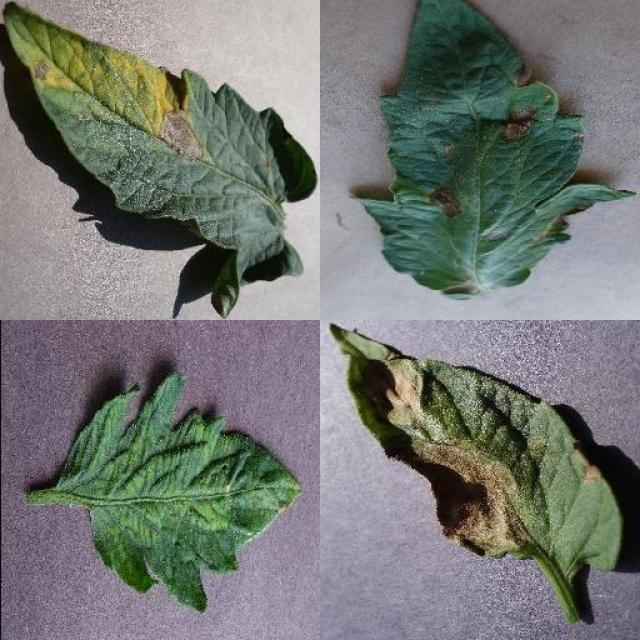Early Blight: (5, 1, 319, 319), (350, 1, 639, 302)
Late Blight: (327, 322, 625, 580)
